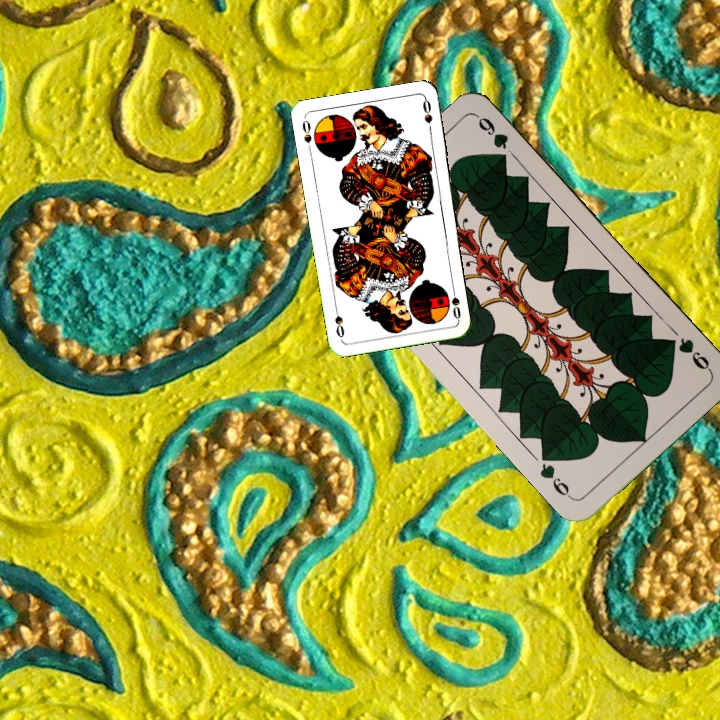G9: (662, 334, 714, 374)
SO: (447, 281, 463, 322), (298, 115, 314, 155)
